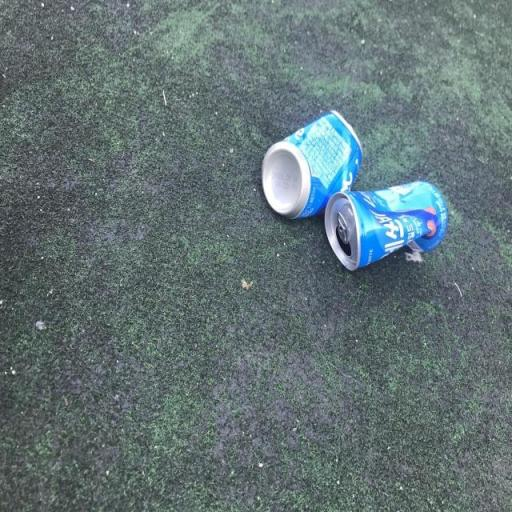metal: (250, 103, 370, 241), (316, 166, 463, 277)
